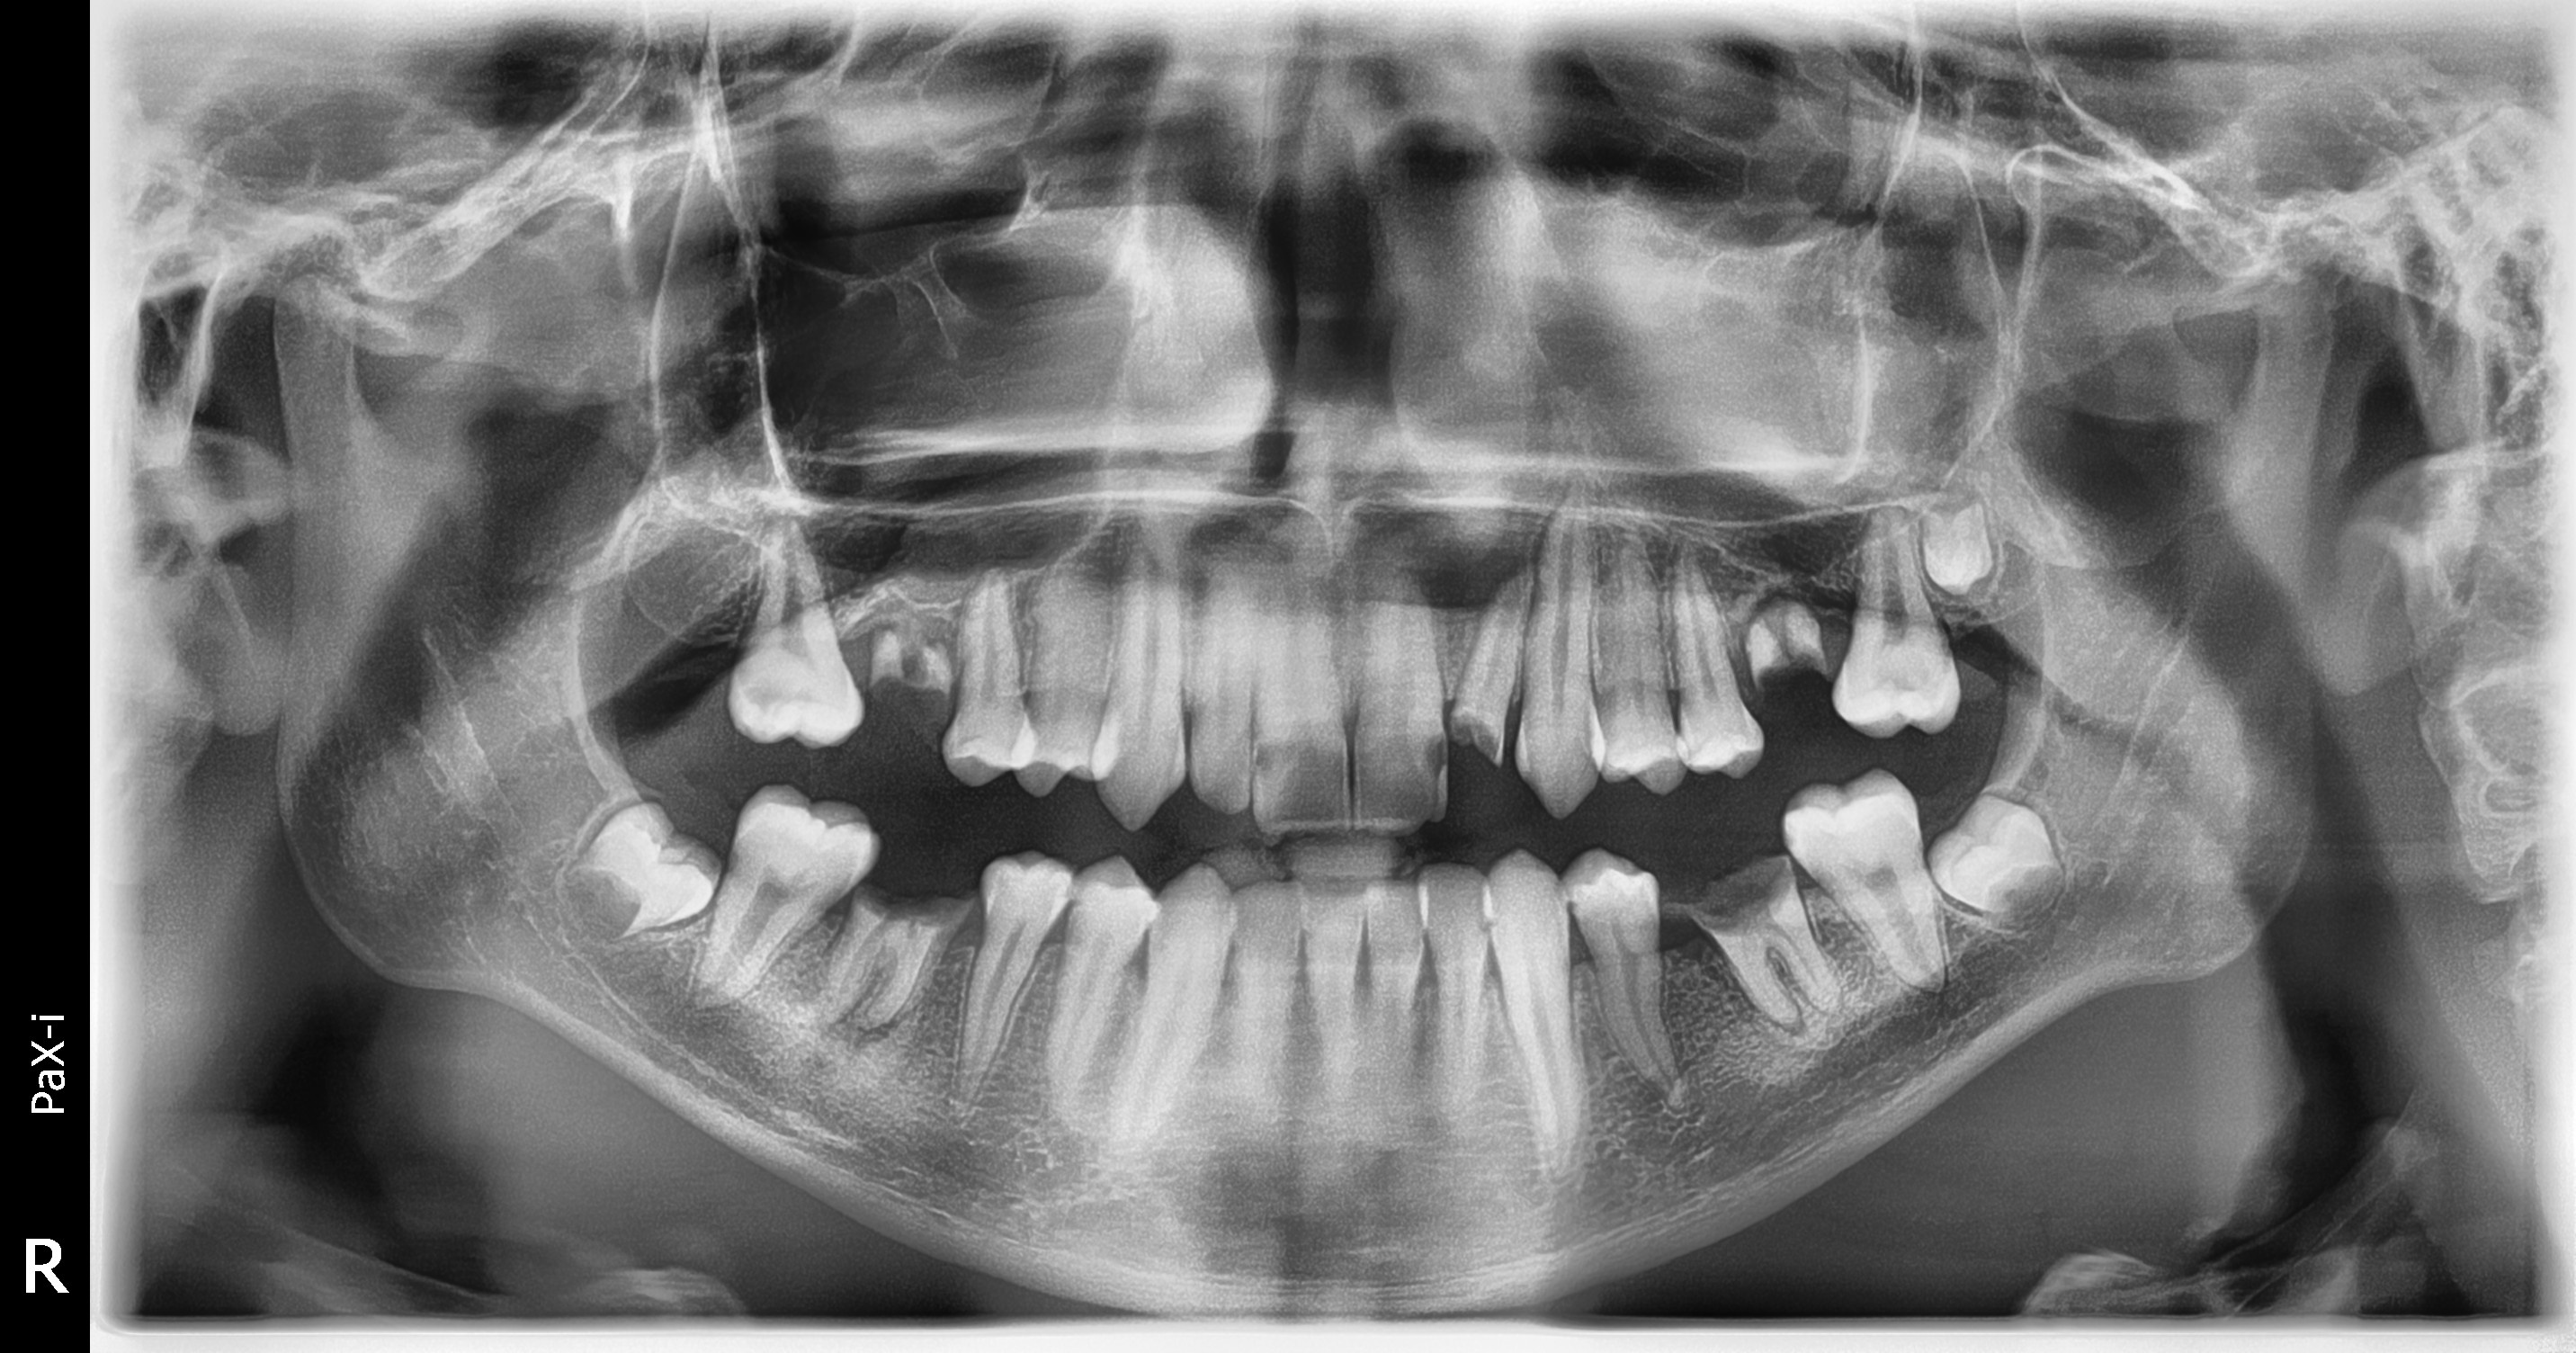API: (782, 993, 922, 1070), (1734, 987, 1833, 1067)
CAR: (1675, 835, 1806, 961), (830, 874, 978, 932), (727, 651, 825, 736), (1446, 688, 1511, 787), (1400, 719, 1450, 799), (1245, 719, 1288, 792)
IMT: (542, 750, 738, 961), (1915, 765, 2085, 953), (1895, 469, 2005, 632)
ROT: (1435, 561, 1555, 769), (901, 617, 976, 734), (843, 595, 920, 699), (1721, 595, 1789, 704), (1770, 588, 1831, 694)
